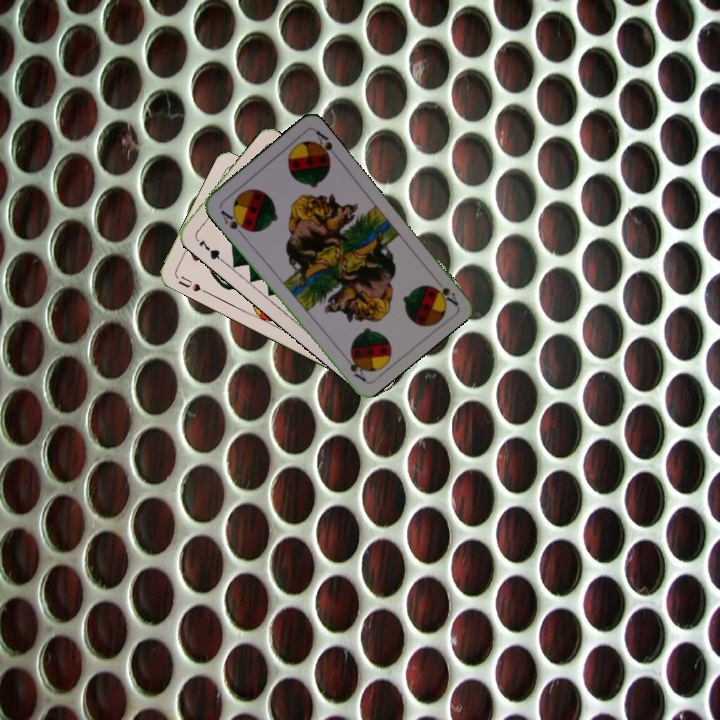G7: (192, 233, 225, 264)
SA: (427, 273, 460, 307), (216, 206, 250, 234)
SU: (172, 272, 210, 296)
